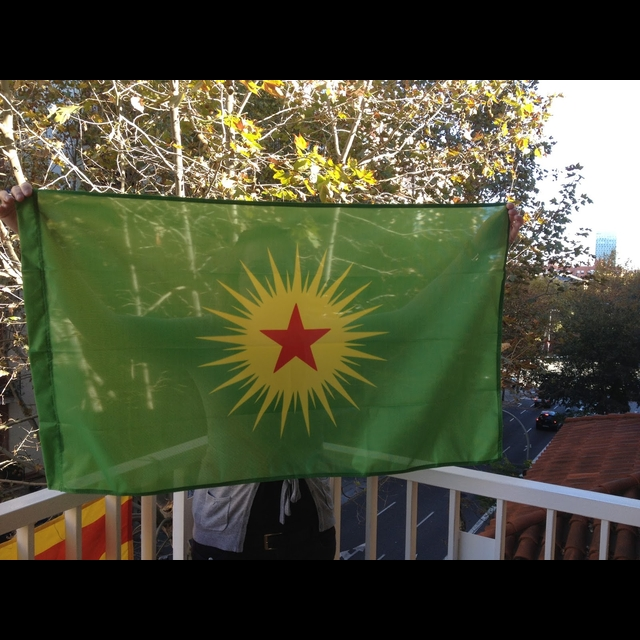KCK: (191, 238, 396, 435)
